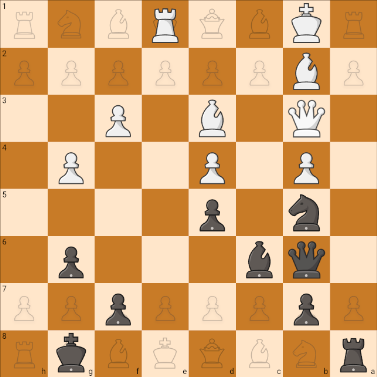bb: (241, 239, 280, 284), (285, 191, 324, 232)
bk: (50, 332, 93, 377)
bp: (289, 286, 326, 331), (195, 194, 232, 235), (100, 290, 137, 329), (53, 242, 88, 281)
bq: (286, 239, 328, 283)
br: (332, 334, 374, 377)
wb: (285, 51, 330, 93), (192, 98, 231, 139)
wk: (285, 1, 329, 47), (287, 98, 328, 140)
wp: (193, 145, 232, 185), (287, 146, 325, 186), (100, 101, 138, 140), (56, 145, 90, 188)
wr: (145, 2, 188, 47)
